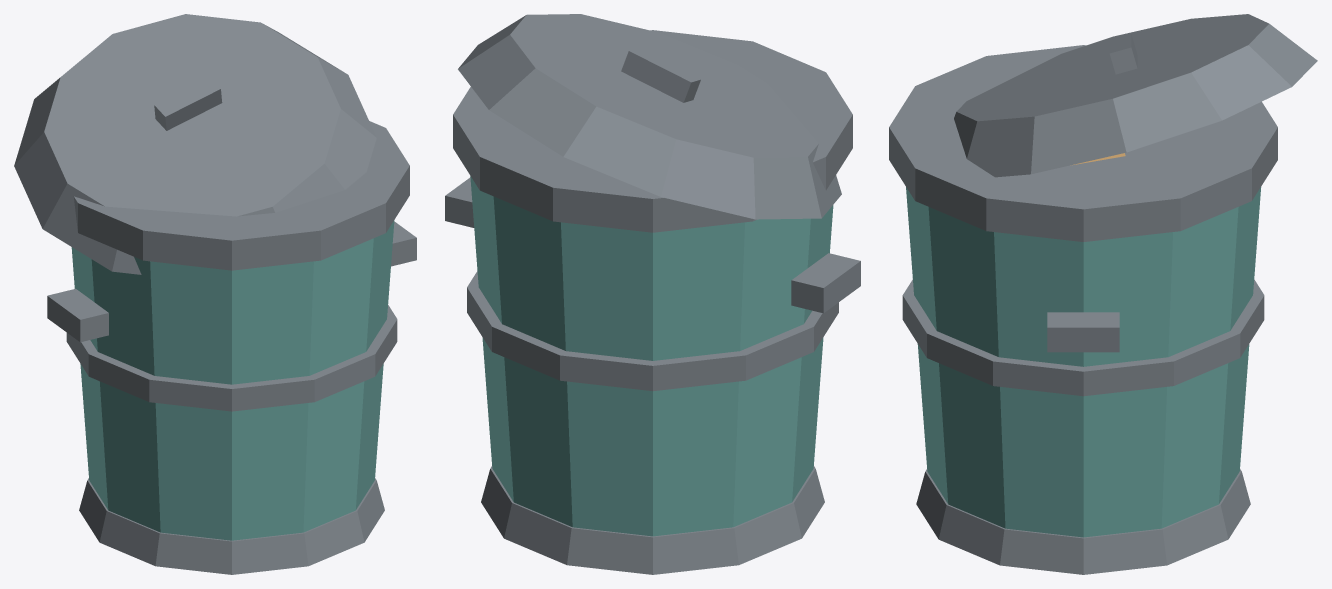
Rendered from SM_Loot_TrashBin.fbx.
3 views of the same model, side by side, from view 1: azimuth 30°, elevation 25°; view 2: azimuth 150°, elevation 25°; view 3: azimuth 270°, elevation 25° (orthographic). The views are drawn at different scales.
Parts seen in each view (by area): view 1: BinBody, BinLid, BinRimTop, BinBaseFoot, BinRibMid, HandleLeft, LidHandle, HandleRight; view 2: BinBody, BinLid, BinRimTop, BinBaseFoot, BinRibMid, HandleLeft, LidHandle, HandleRight; view 3: BinBody, BinRimTop, BinLid, BinBaseFoot, BinRibMid, HandleRight, LidHandle.
Boxes of the visible parts, x1,y1,x2,y2 form: BinBody: (71,220,394,540); BinLid: (14,14,376,274); BinRimTop: (73,121,409,270); BinBaseFoot: (79,478,384,574); BinRibMid: (66,305,397,411); HandleLeft: (47,288,108,342); LidHandle: (154,77,222,130); HandleRight: (391,221,416,266); BinBody: (470,176,833,536); BinLid: (458,14,841,219); BinRimTop: (453,30,852,232); BinBaseFoot: (481,466,824,574); BinRibMid: (467,271,838,391); HandleLeft: (791,253,860,313); LidHandle: (621,48,700,102); HandleRight: (445,177,474,227); BinBody: (906,187,1261,537); BinRimTop: (889,45,1277,241); BinLid: (954,14,1317,177); BinBaseFoot: (916,469,1250,574); BinRibMid: (902,279,1264,396); HandleRight: (1047,312,1119,352); LidHandle: (1109,34,1137,74).
Size of the model in its own units: 0.9441 by 1.16 by 0.9481.
